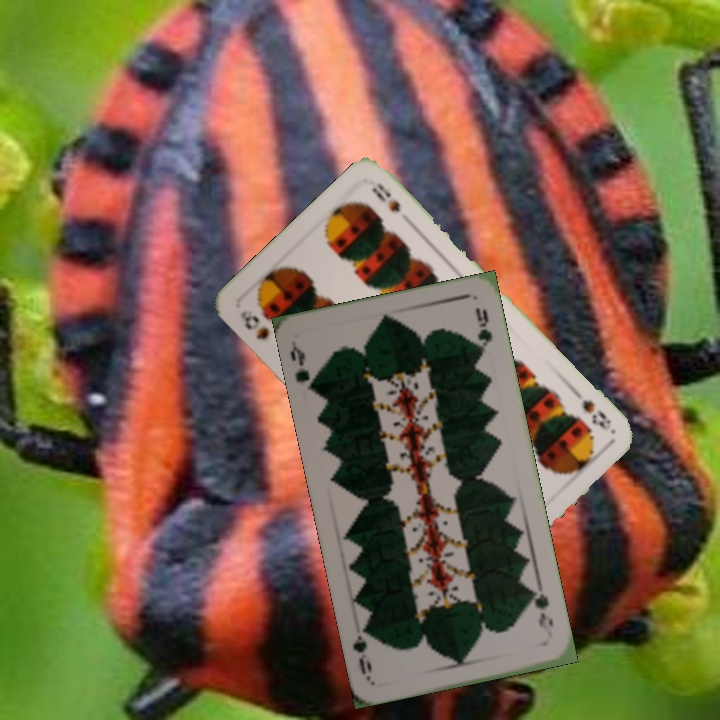G9: (286, 338, 319, 395), (527, 582, 556, 634)
S8: (578, 395, 614, 433), (236, 306, 272, 343)
